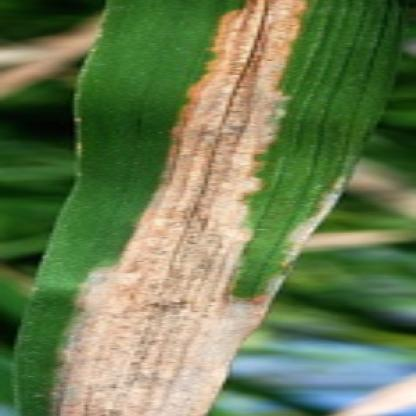Blight: (26, 1, 366, 416)
